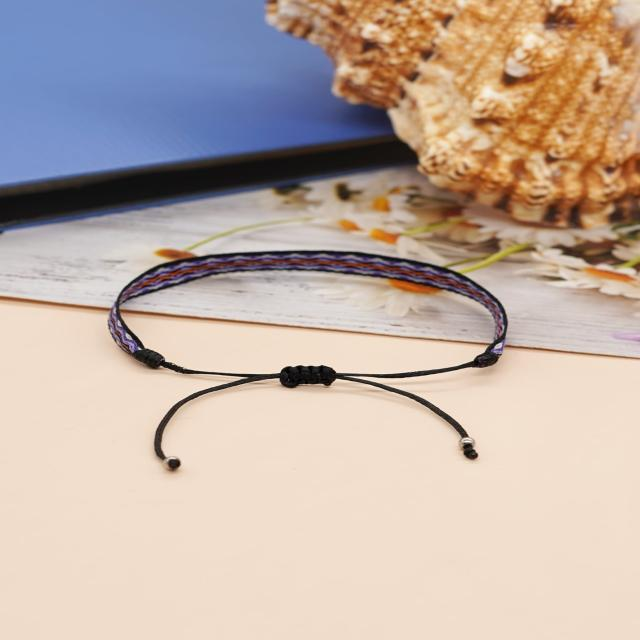bracelet: (48, 226, 640, 514)
